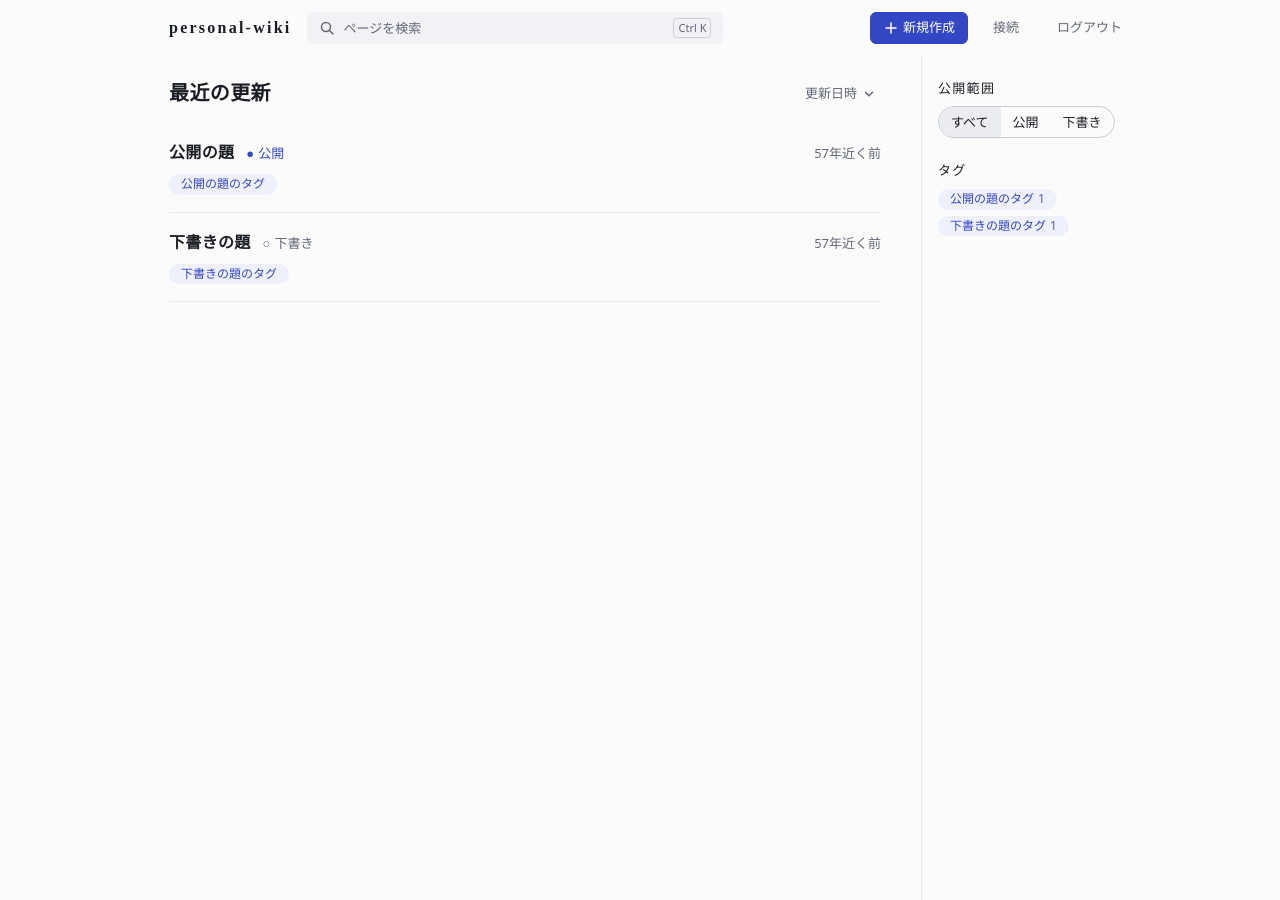
it: App の owner の画面 › トップでログアウトすると、一覧とタグを匿名として取り直し、draft を残さない
The image size is (1280, 900).
Click the button "ログアウト": (1090, 28) 1044,12 -> 1135,44
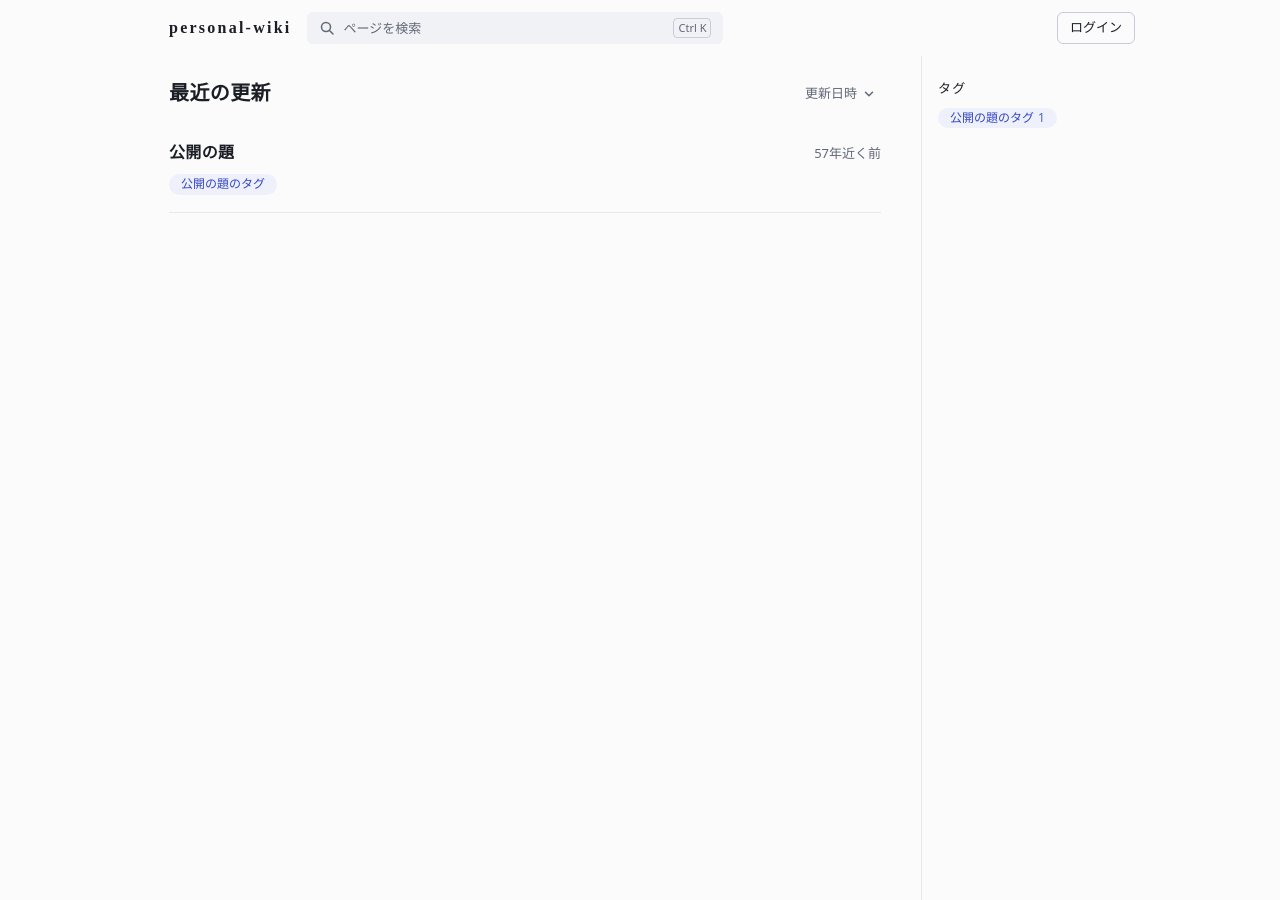
Expected: the link "ログイン" is shown, 1057,12 -> 1135,44
Result: the link "下書きの題" no longer shows "下書きの題"
Result: the link "下書きの題" no longer shows "下書き"
